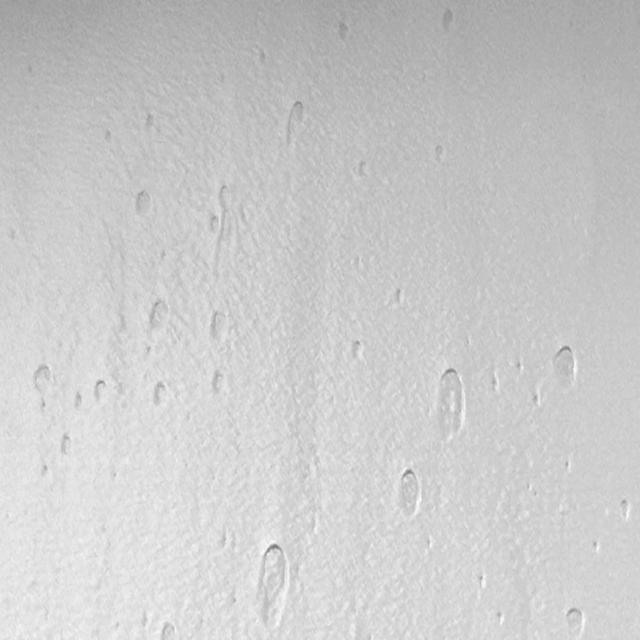pin holes: (431, 359, 472, 444), (253, 541, 291, 632), (395, 469, 425, 517), (551, 347, 583, 388), (30, 361, 59, 404), (280, 102, 309, 145), (148, 298, 172, 332), (564, 604, 588, 637), (207, 308, 230, 341), (150, 381, 172, 409), (134, 189, 155, 218), (90, 379, 110, 407), (211, 369, 231, 396), (438, 6, 458, 32), (58, 432, 77, 458), (349, 339, 368, 364), (205, 211, 224, 236), (336, 20, 354, 44), (253, 44, 271, 68), (216, 182, 232, 207), (158, 621, 179, 640), (144, 112, 161, 135), (617, 498, 633, 522), (37, 462, 53, 486), (391, 284, 407, 307), (488, 374, 503, 397), (433, 145, 450, 165), (357, 158, 372, 178), (220, 534, 236, 552), (72, 393, 84, 414), (142, 342, 155, 360), (532, 392, 544, 410), (476, 574, 488, 591), (102, 130, 115, 145), (496, 610, 507, 627), (562, 459, 573, 476), (514, 361, 526, 376), (590, 539, 601, 555), (110, 470, 122, 484)
